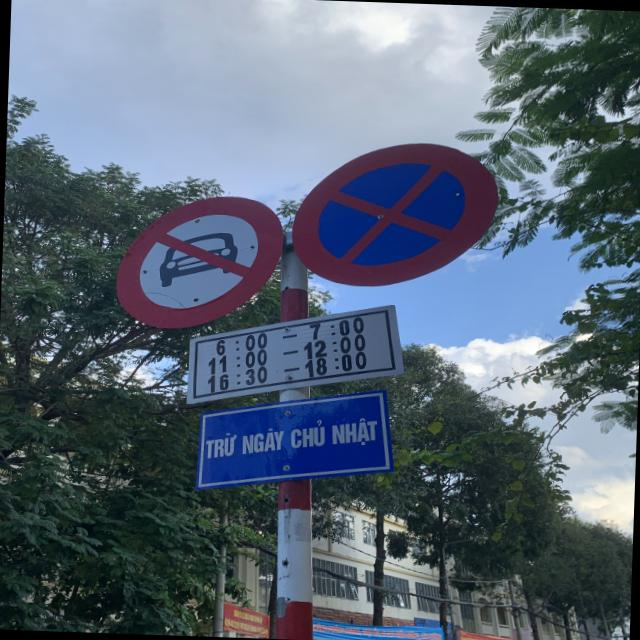Cam_Dung_Va_Dau_Xe: (290, 140, 500, 290)
Cam_O_To: (114, 192, 284, 332)
